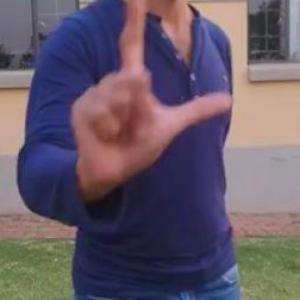land_hand: (59, 0, 235, 194)
